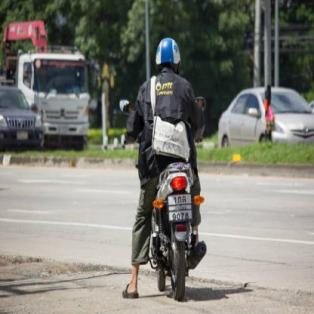Motocicleta: (118, 103, 207, 302)
